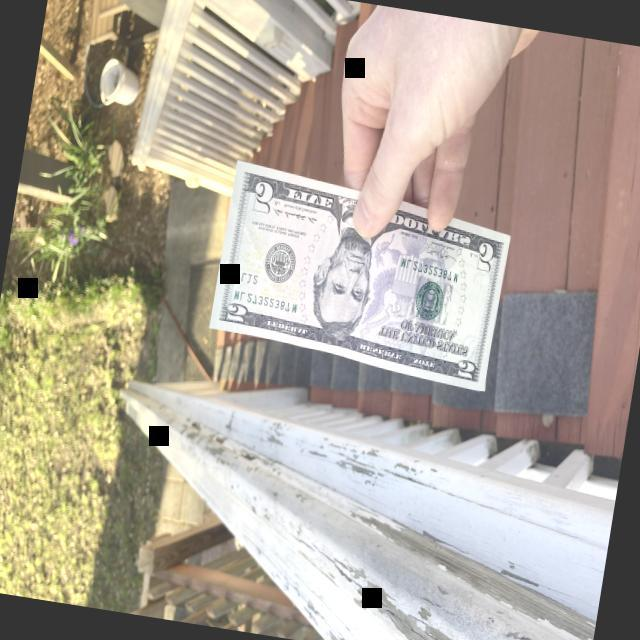five: (209, 161, 509, 394)
